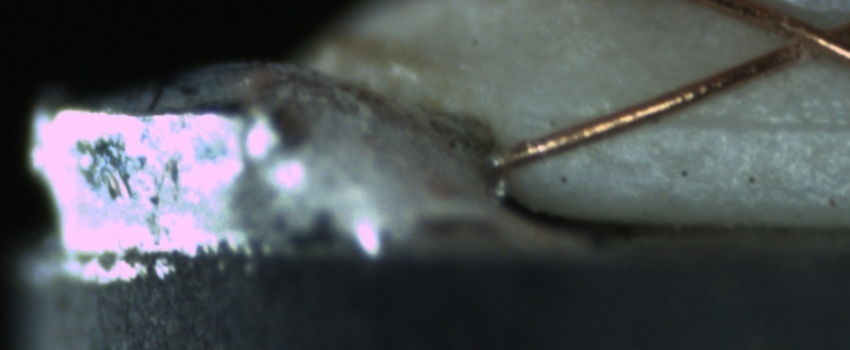CL: (761, 3, 849, 69)
DL: (556, 89, 850, 153)
